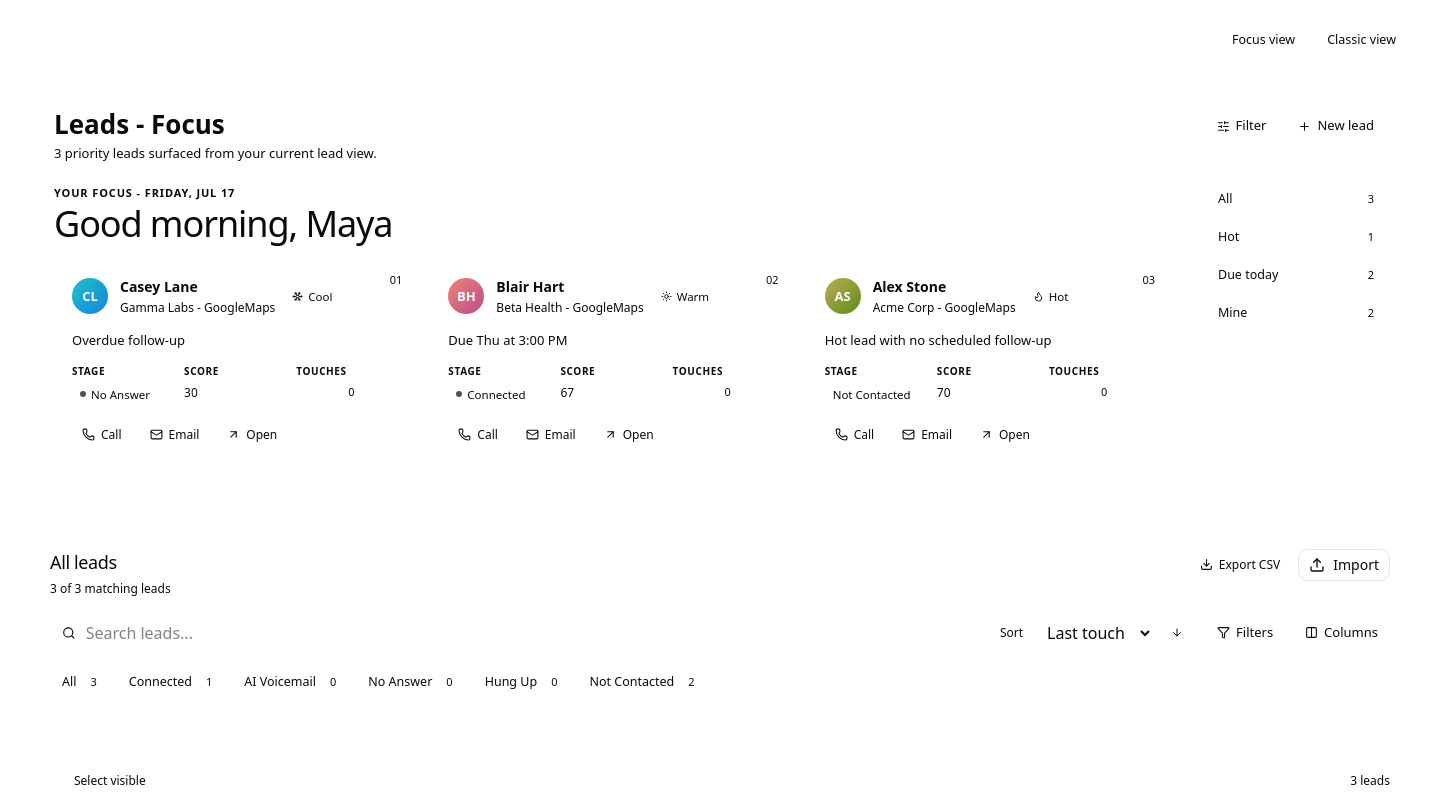
Test: LeadsList › supports hot and mine quick filters from the focus header
Click the button "Hot 1". click: (1296, 237)
box: x1=1206 y1=223 x2=1386 y2=251
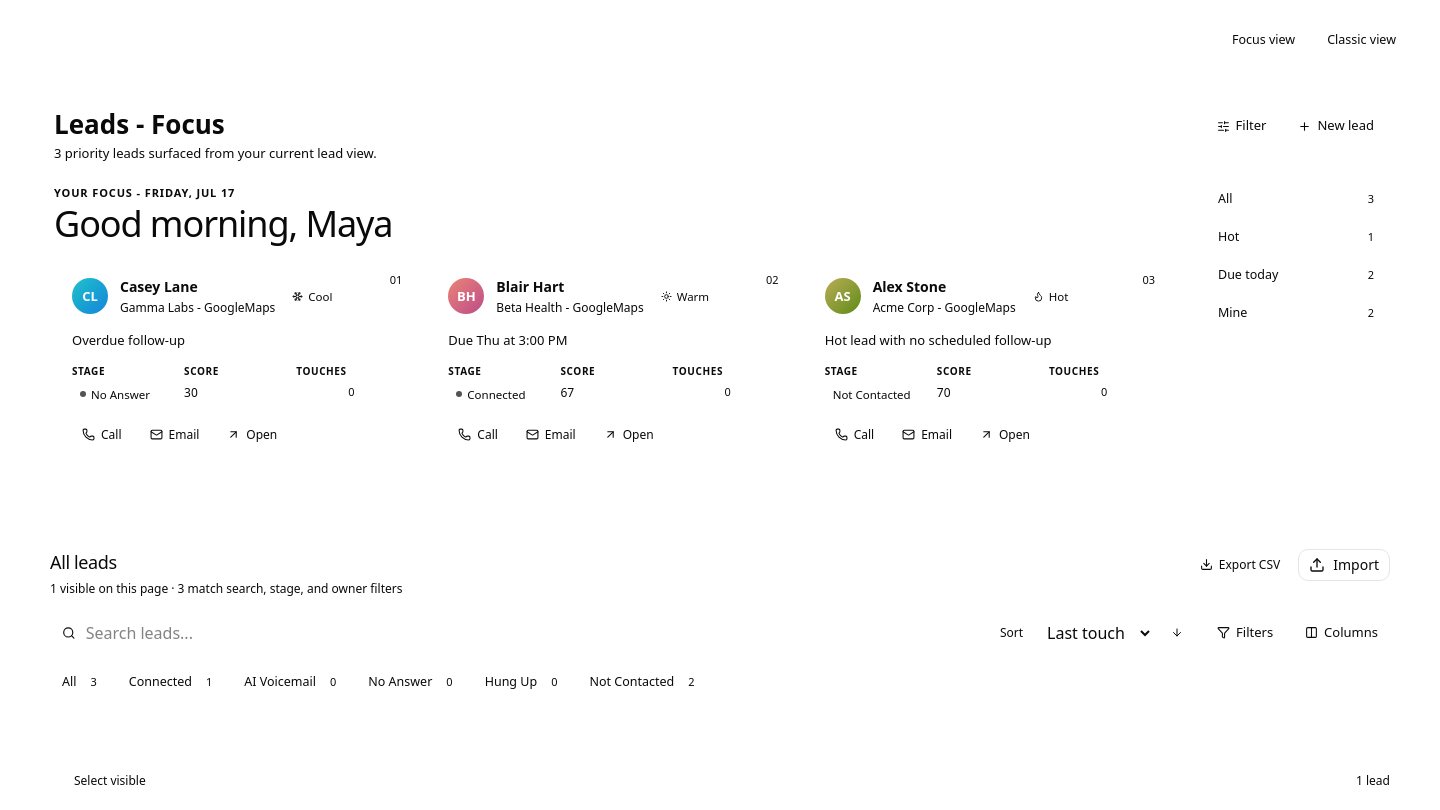
Click the button "Mine 2". click: (1296, 313)
box: x1=1206 y1=299 x2=1386 y2=327
(page scrolled)
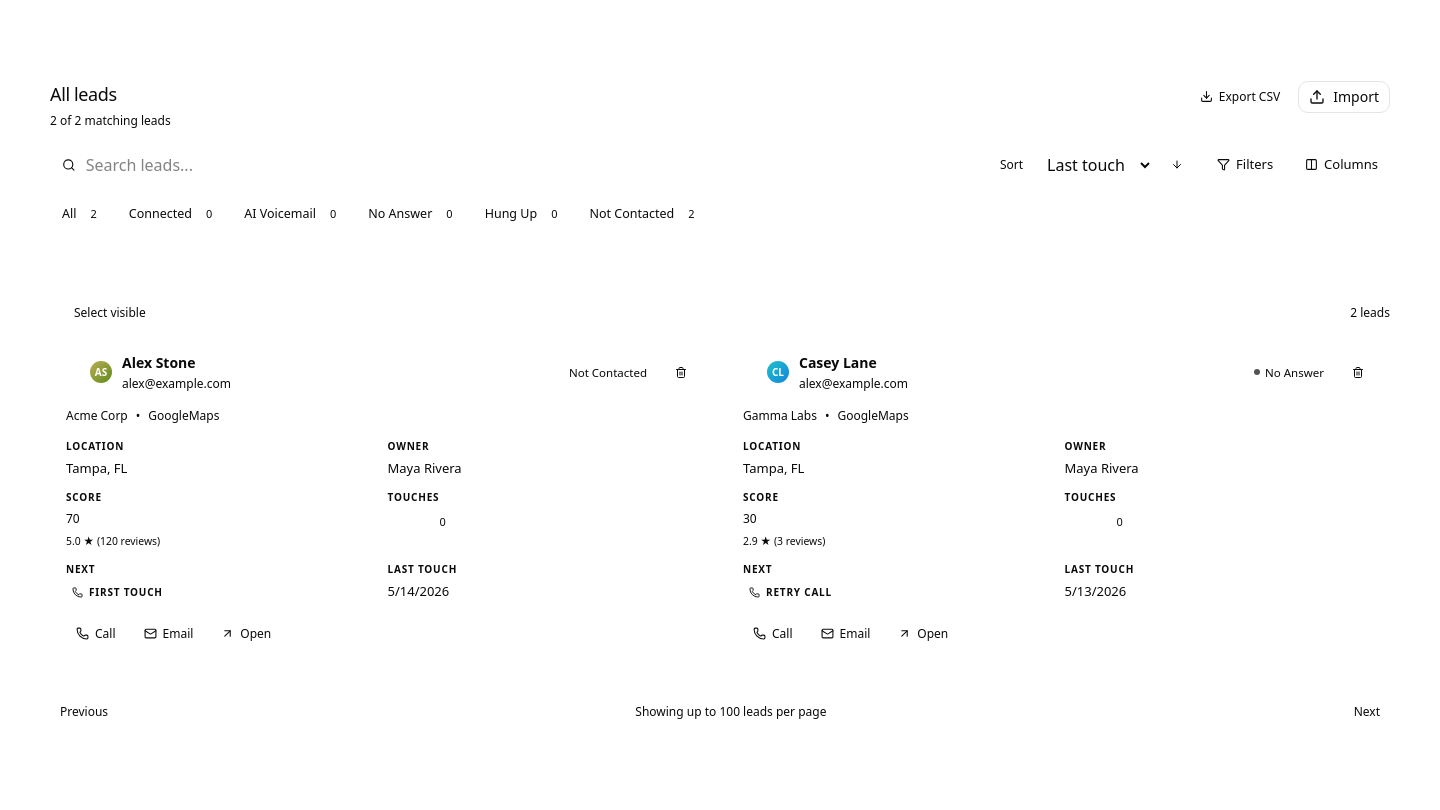
Expected: the text "Acme Corp" is shown, x1=66 y1=407 x2=128 y2=425
Expected: the text "Gamma Labs" is shown, x1=743 y1=407 x2=817 y2=425
Expected: the button "Beta Health" is gone
